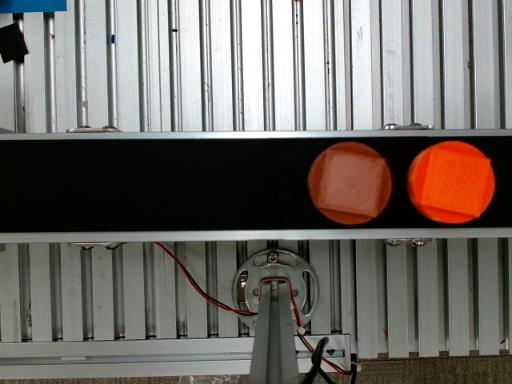Square: (422, 146, 490, 216), (318, 148, 385, 216)
